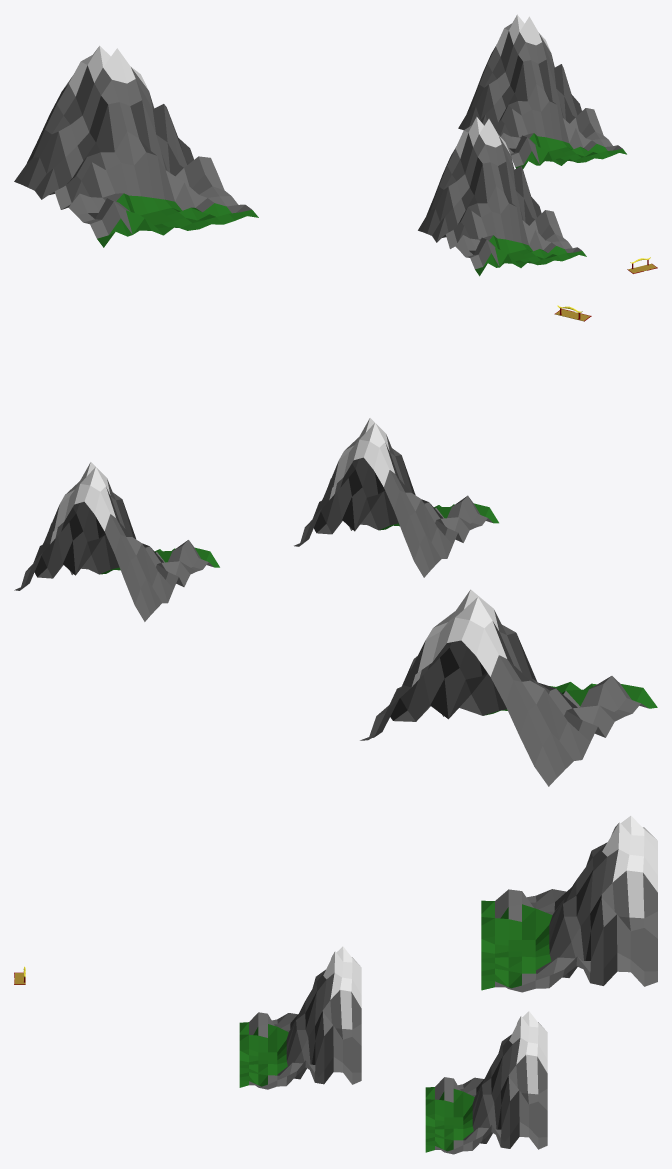
Rendered from nirvana_platform.fbx.
The picture shows the model from 3 angles, top to bottom: view 1: azimuth 30°, elevation 25°; view 2: azimuth 150°, elevation 25°; view 3: azimuth 270°, elevation 25°; orthographic projection. The views are drawn at different scales.
Visible parts, largest first — view 1: Plane.002, Plane, Plane.001; view 2: Plane.002, Plane.001, Plane; view 3: Plane.002, Plane, Plane.001.
Boxes of the visible parts, x1,y1,x2,y2 form: Plane.002: (14, 45, 258, 247); Plane: (418, 117, 586, 276); Plane.001: (458, 14, 626, 168); Plane.002: (360, 589, 657, 786); Plane.001: (14, 462, 219, 621); Plane: (294, 418, 498, 577); Plane.002: (481, 816, 657, 992); Plane: (239, 946, 361, 1089); Plane.001: (425, 1011, 547, 1154).
Size of the model in its own units: 63742 by 17881 by 72945.
